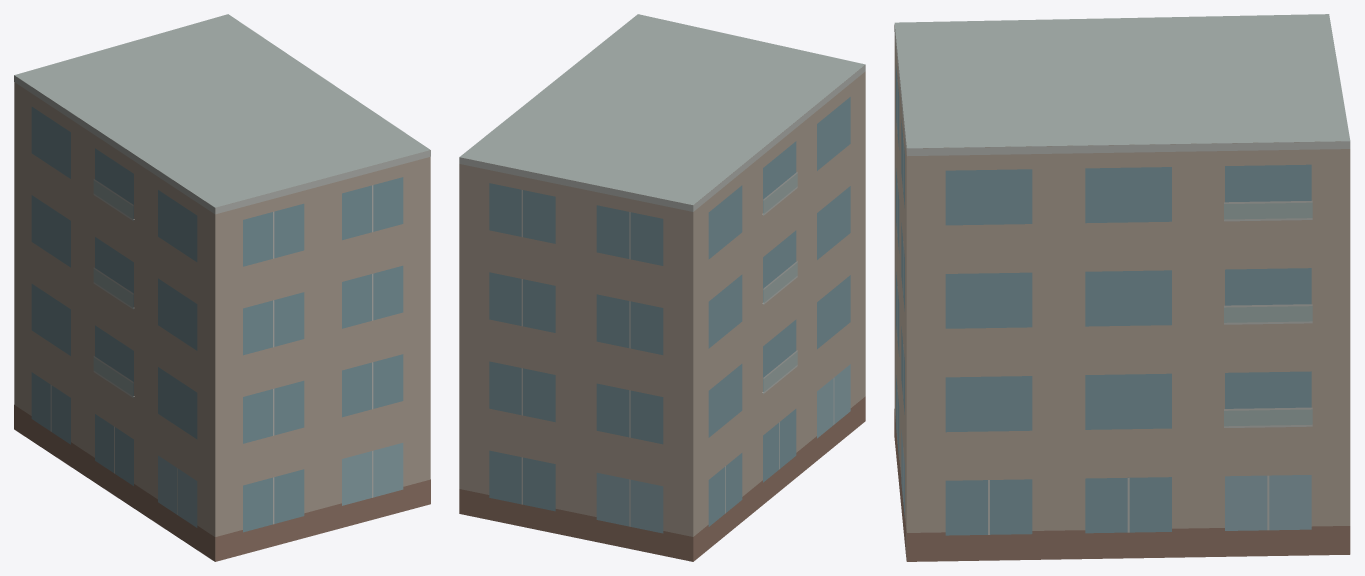
Rendered from survey-upis-33006188.glb.
3 renders of one model, left to right at view 1: azimuth 30°, elevation 25°; view 2: azimuth 150°, elevation 25°; view 3: azimuth 270°, elevation 25°, orthographic. The views are drawn at different scales.
Visible parts, largest first — view 1: survey-upis-33006188.tmp; view 2: survey-upis-33006188.tmp; view 3: survey-upis-33006188.tmp.
Boxes of the visible parts, x1,y1,x2,y2 form: survey-upis-33006188.tmp: (14, 14, 430, 561); survey-upis-33006188.tmp: (459, 14, 865, 561); survey-upis-33006188.tmp: (894, 14, 1350, 561).
Size of the model in its own units: 9.03 by 12.95 by 12.95.
